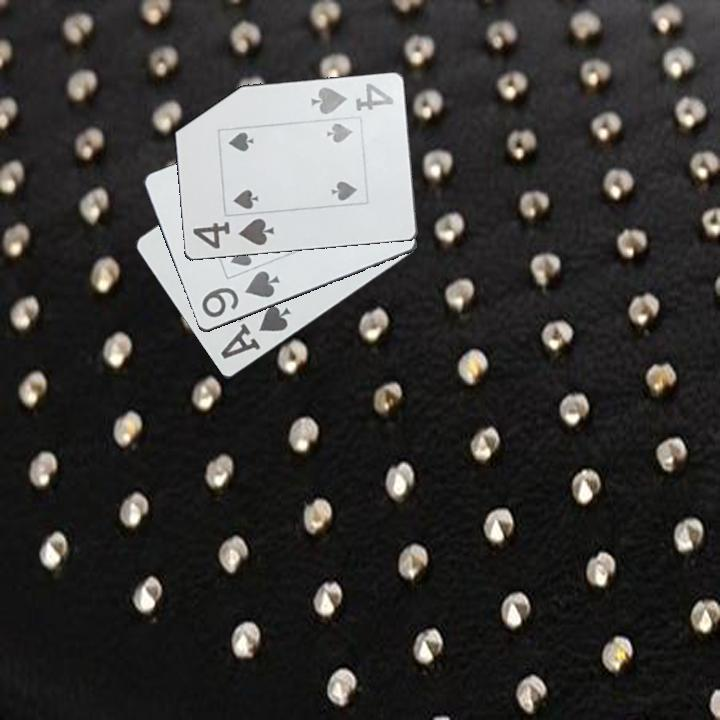4s: (309, 80, 396, 118), (189, 215, 278, 252)
9s: (198, 267, 283, 321)
As: (217, 302, 295, 363)
